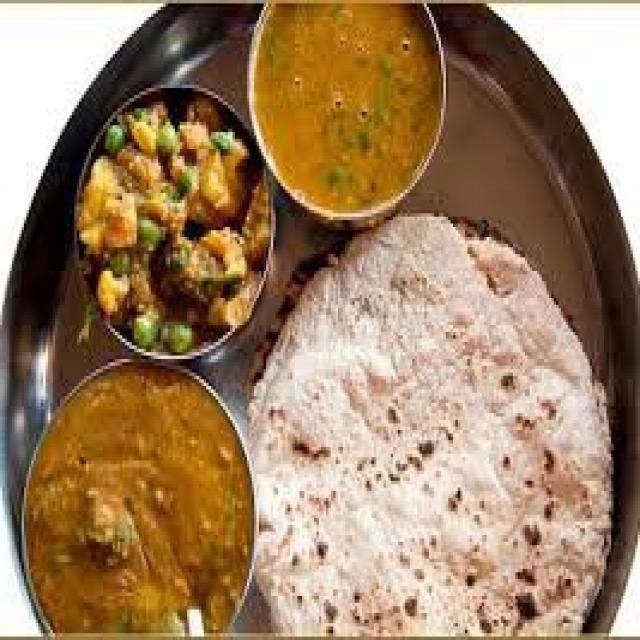Daal: (28, 356, 252, 633), (235, 3, 448, 217)
Roti: (247, 214, 621, 634)
